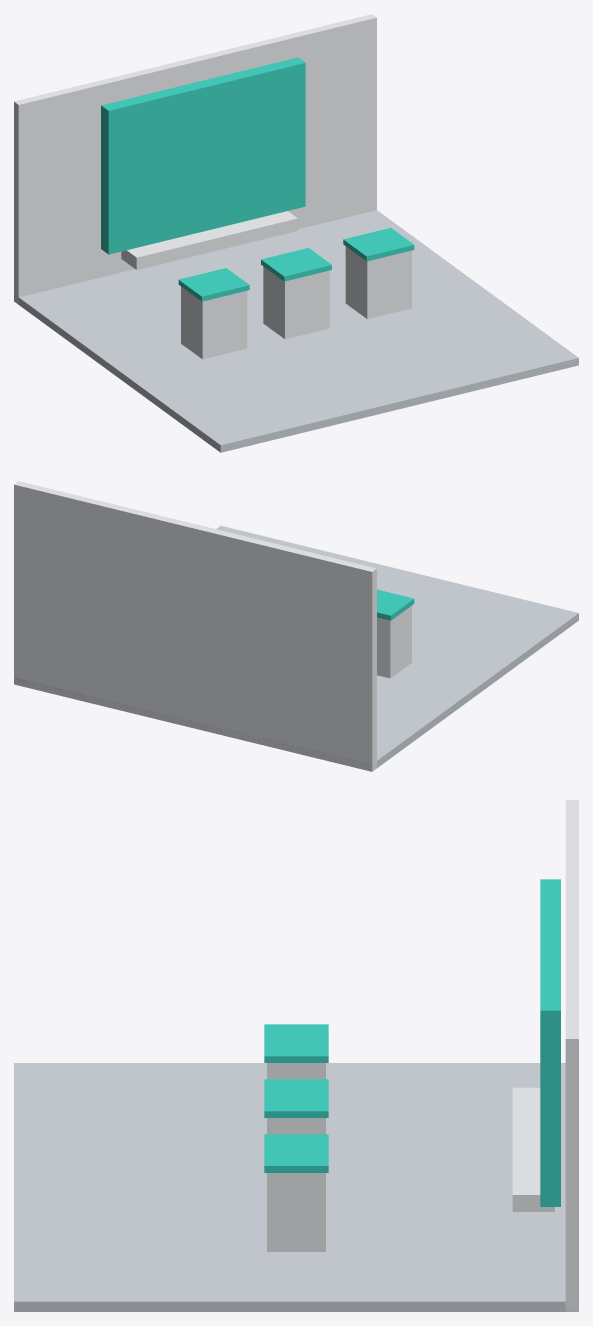
3 views of the same model, one above another, from view 1: azimuth 30°, elevation 25°; view 2: azimuth 150°, elevation 25°; view 3: azimuth 270°, elevation 25° (orthographic). The views are drawn at different scales.
Parts seen in each view (by area): view 1: Exhibition Booth Concept; view 2: Exhibition Booth Concept; view 3: Exhibition Booth Concept.
Boxes of the visible parts, left/top/right/bottom form: Exhibition Booth Concept: left=14, top=14, right=578, bottom=452; Exhibition Booth Concept: left=14, top=481, right=578, bottom=771; Exhibition Booth Concept: left=14, top=800, right=578, bottom=1311.
Size of the model in its own units: 6 by 3.2 by 6.
